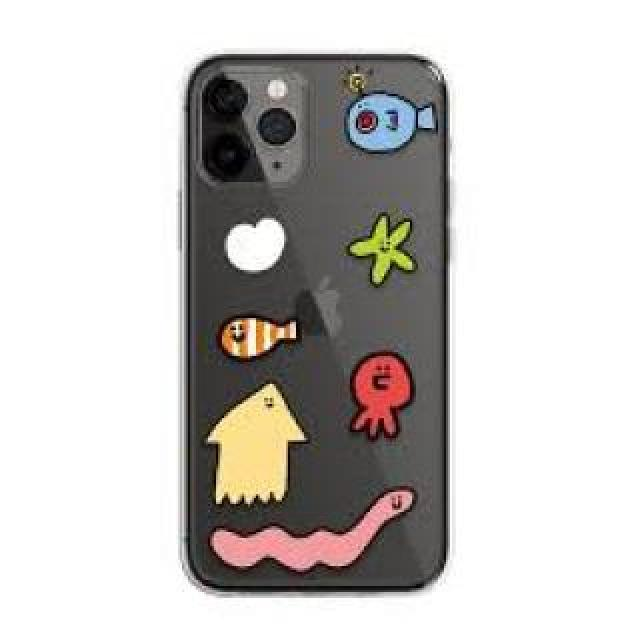smart phone: (148, 16, 490, 612)
